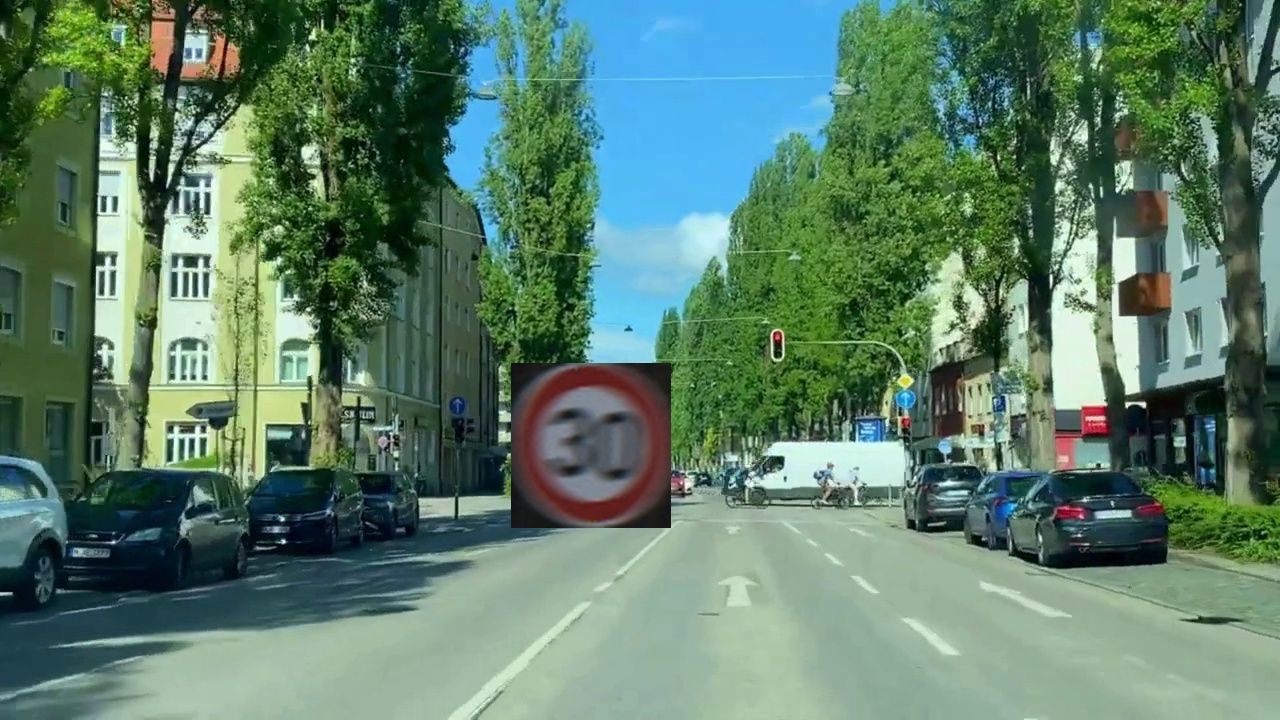Speed 30: (511, 363, 671, 528)
